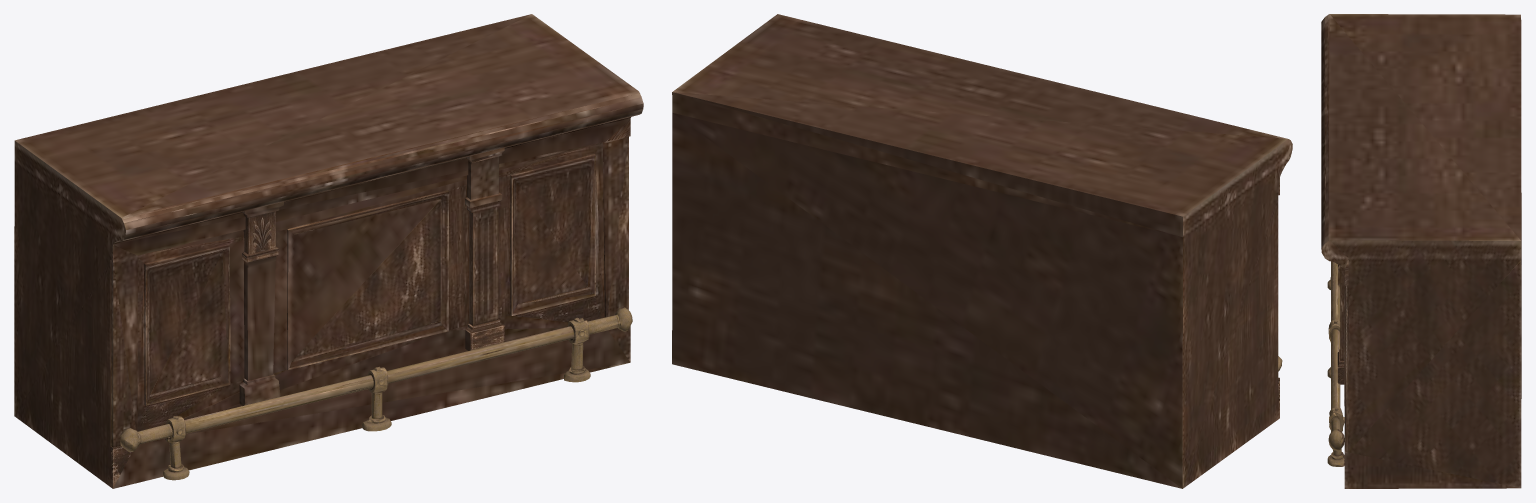
The model's file is bar-counter.glb.
3 views of the same model, side by side, from view 1: azimuth 30°, elevation 25°; view 2: azimuth 150°, elevation 25°; view 3: azimuth 270°, elevation 25° (orthographic). The views are drawn at different scales.
Parts seen in each view (by area): view 1: GLTF; view 2: GLTF; view 3: GLTF.
Part boxes in pixels (x1,y1,x2,y2): GLTF: [14, 14, 643, 488]; GLTF: [672, 14, 1292, 488]; GLTF: [1321, 14, 1521, 488].
Size of the model in its own units: 2.17 by 1.11 by 0.81.
Materials: 1 (1 with a texture image).
